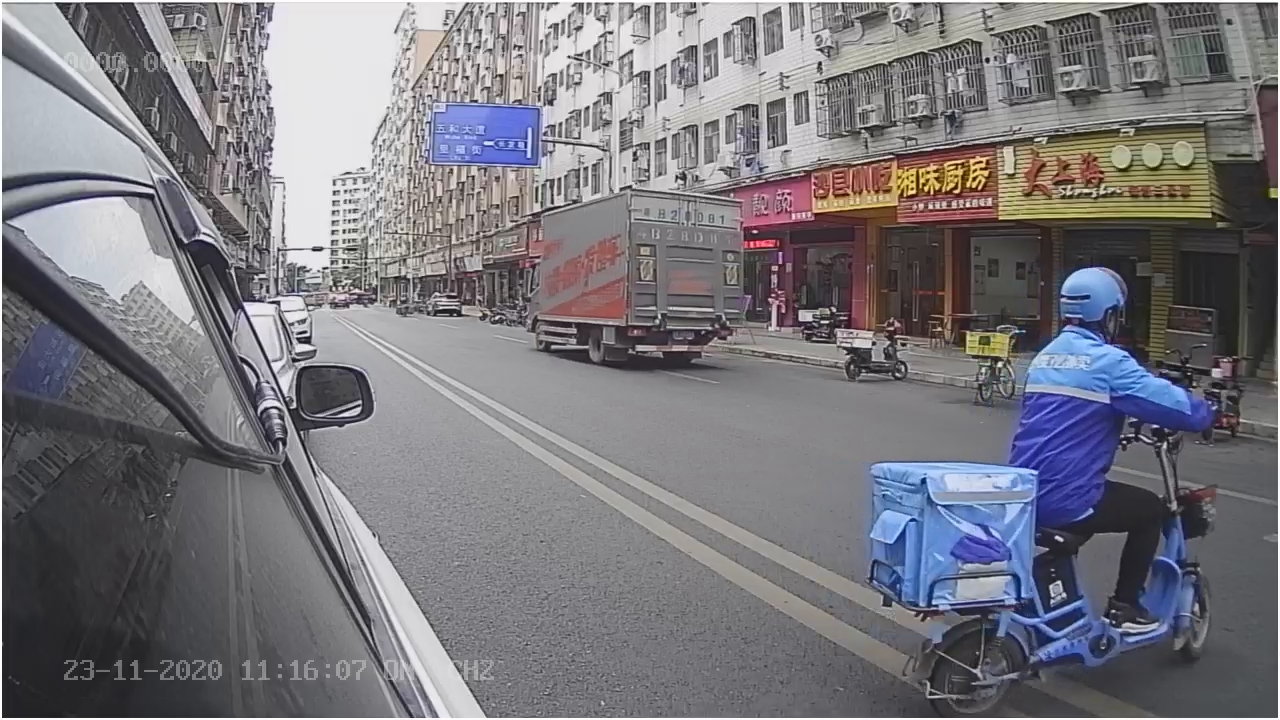person: (1009, 259, 1220, 426)
